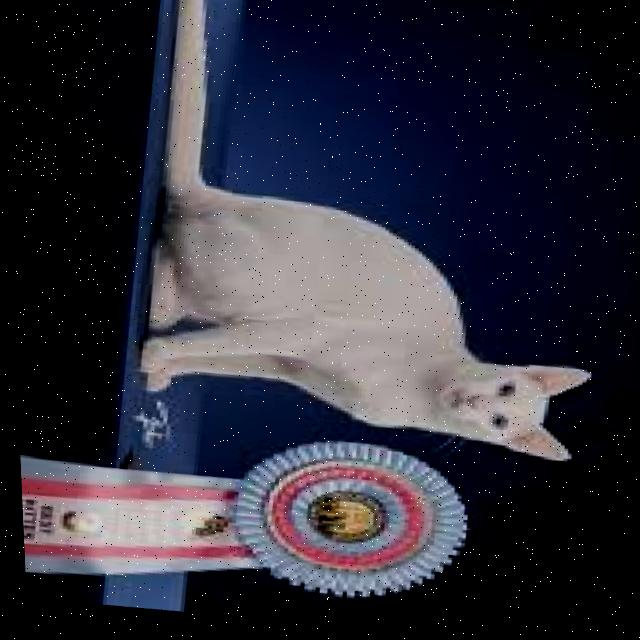Khao Manee: (107, 0, 640, 491)
